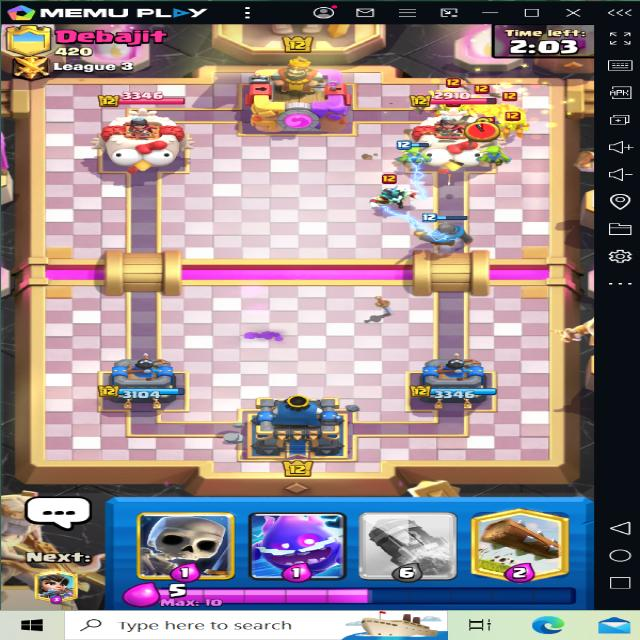electro-wizard: (360, 178, 426, 210)
goblin: (495, 116, 544, 138)
spear-goblin: (495, 103, 529, 119)
